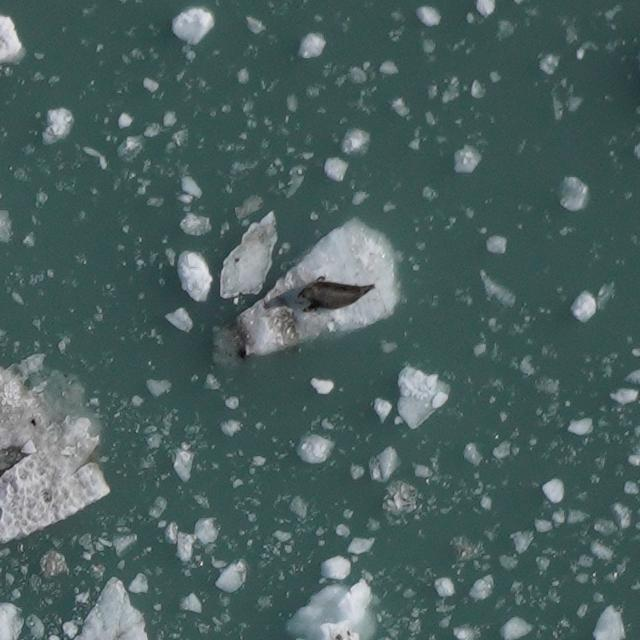seal: (294, 273, 379, 317)
